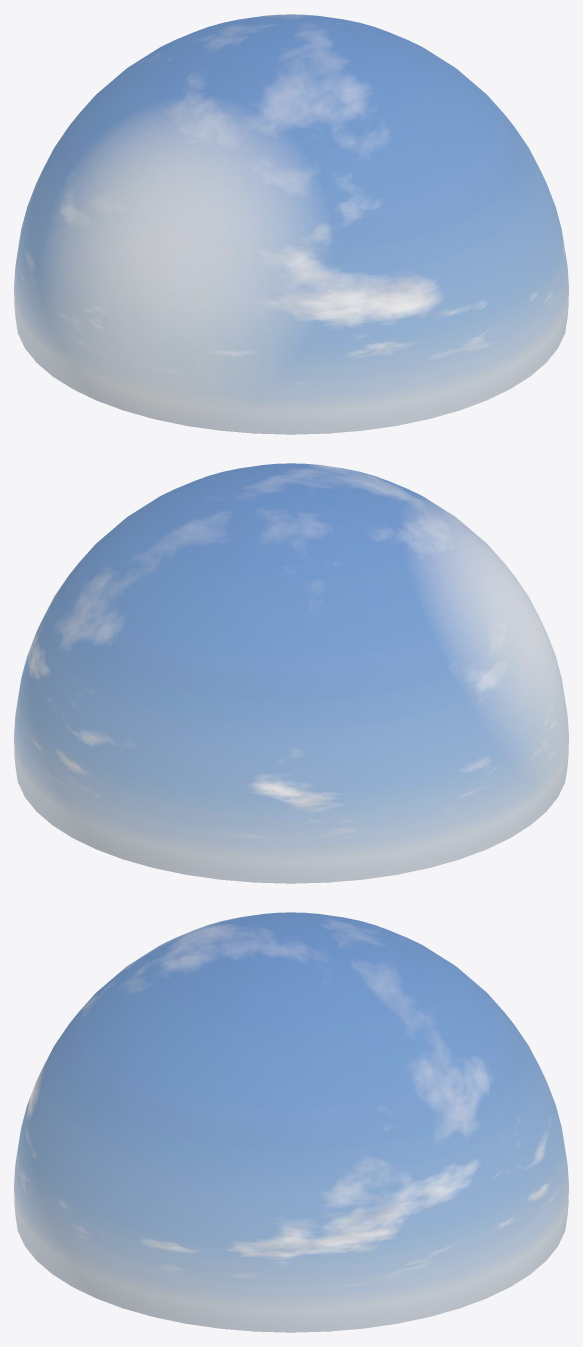
File: battery_waterfront.gltf
3 views of the same model, one above another, from view 1: azimuth 30°, elevation 25°; view 2: azimuth 150°, elevation 25°; view 3: azimuth 270°, elevation 25° (orthographic).
Visible parts, largest first — view 1: SkyDome; view 2: SkyDome; view 3: SkyDome.
Part boxes in pixels (x1,y1,x2,y2): SkyDome: [14, 14, 568, 434]; SkyDome: [14, 463, 568, 883]; SkyDome: [14, 912, 568, 1332].
Bounding box in the file's own units: 1200 × 663 × 1200.
Materials: 30 (29 with a texture image).
